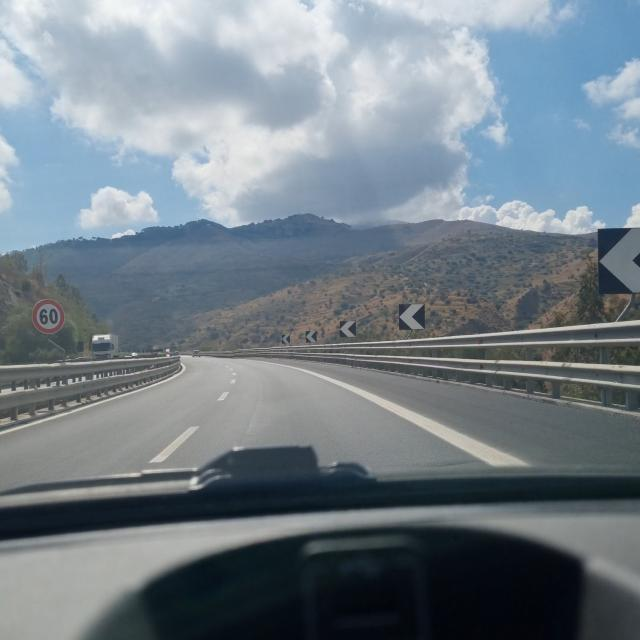forb_speed_over_60: (32, 300, 65, 334)
